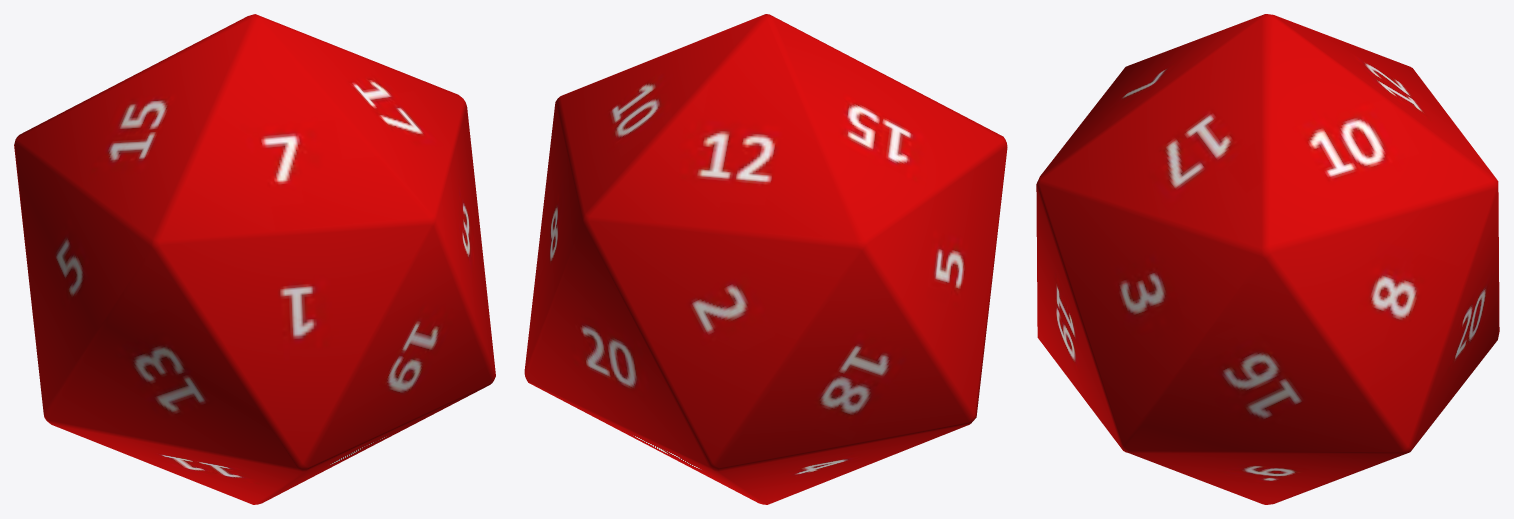
3 views of the same model, side by side, from view 1: azimuth 30°, elevation 25°; view 2: azimuth 150°, elevation 25°; view 3: azimuth 270°, elevation 25° (orthographic).
Visible parts, largest first — view 1: D20_d20_0; view 2: D20_d20_0; view 3: D20_d20_0.
Boxes of the visible parts, x1=… form: D20_d20_0: x1=14, y1=14, x2=495, y2=504; D20_d20_0: x1=524, y1=14, x2=1007, y2=504; D20_d20_0: x1=1036, y1=14, x2=1499, y2=504.
Bounding box in the file's own units: 0.0491 × 0.0545 × 0.0469.
1 material, 1 textured.
